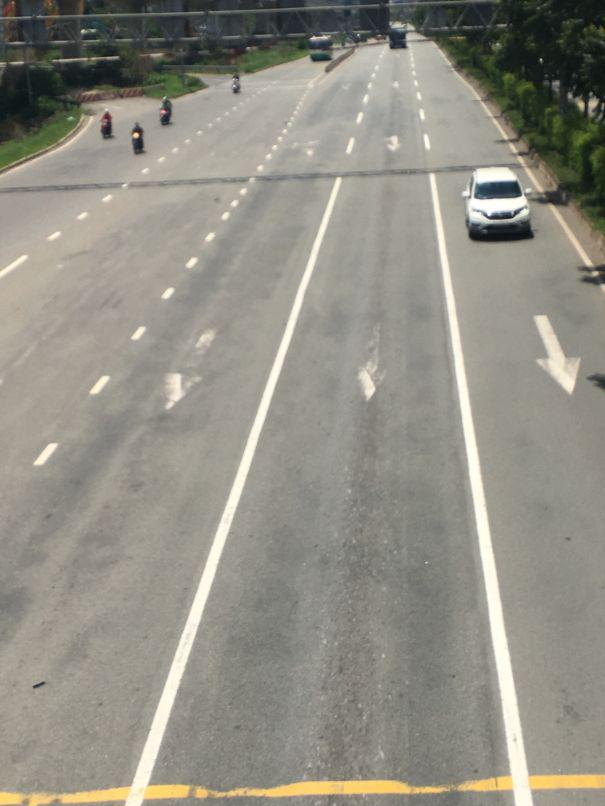car: (464, 168, 535, 241), (306, 35, 332, 63), (388, 26, 407, 49)
motorbike: (159, 98, 173, 125), (101, 110, 114, 138), (231, 75, 241, 94)
